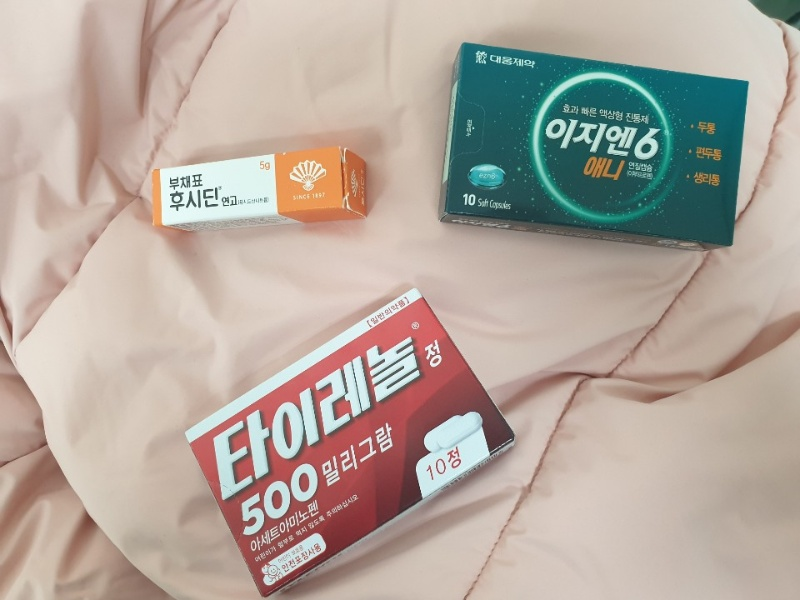ezn: (439, 44, 750, 246)
fucidin: (152, 147, 365, 235)
tylenol: (184, 288, 516, 595)
